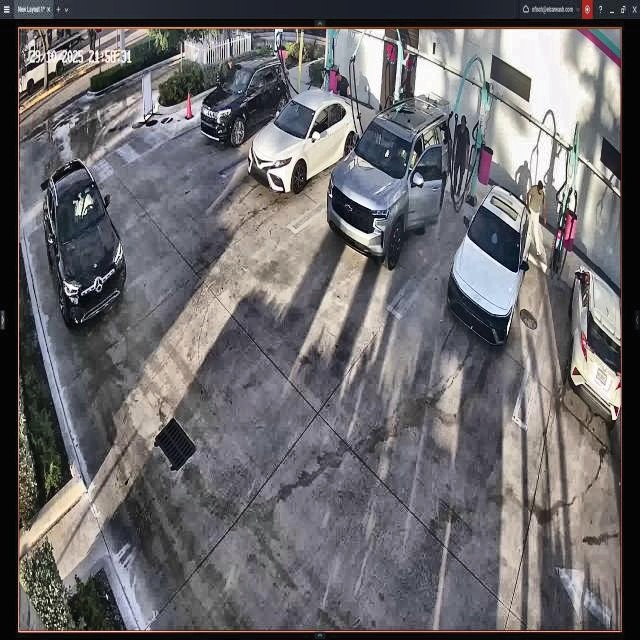Car: (327, 99, 452, 266), (447, 188, 533, 342), (250, 88, 360, 187), (204, 59, 284, 151)
